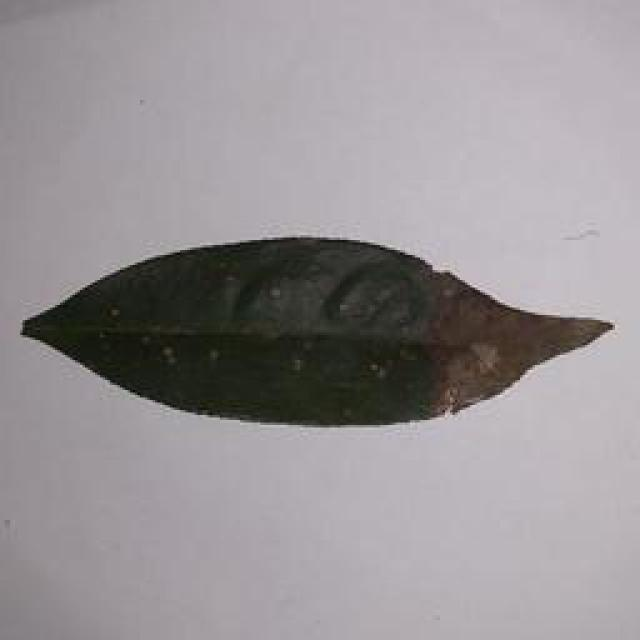Brown Blight: (18, 230, 635, 434)
